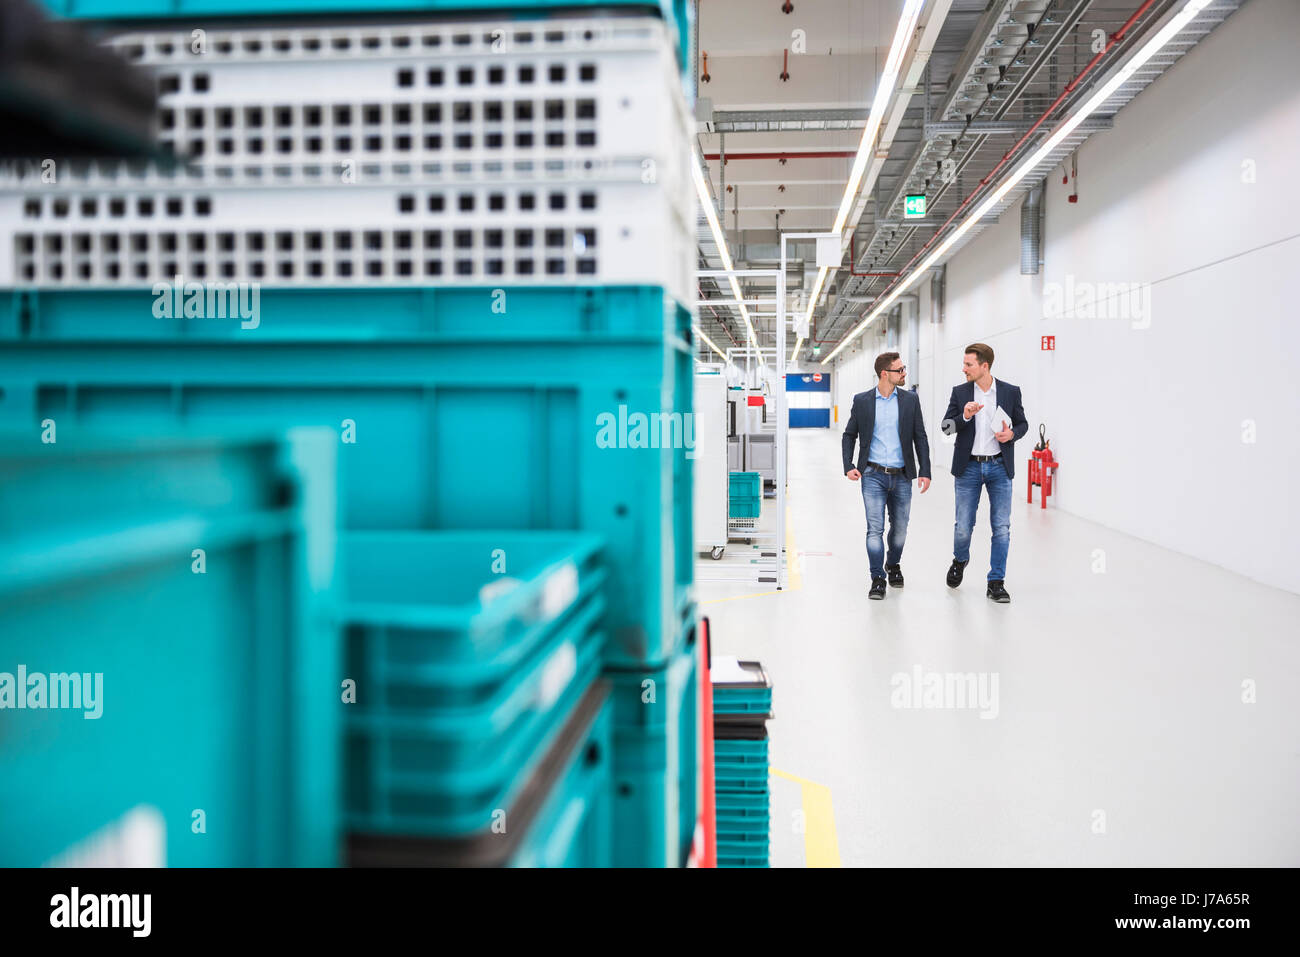person: (841, 354, 932, 599), (943, 344, 1027, 605)
